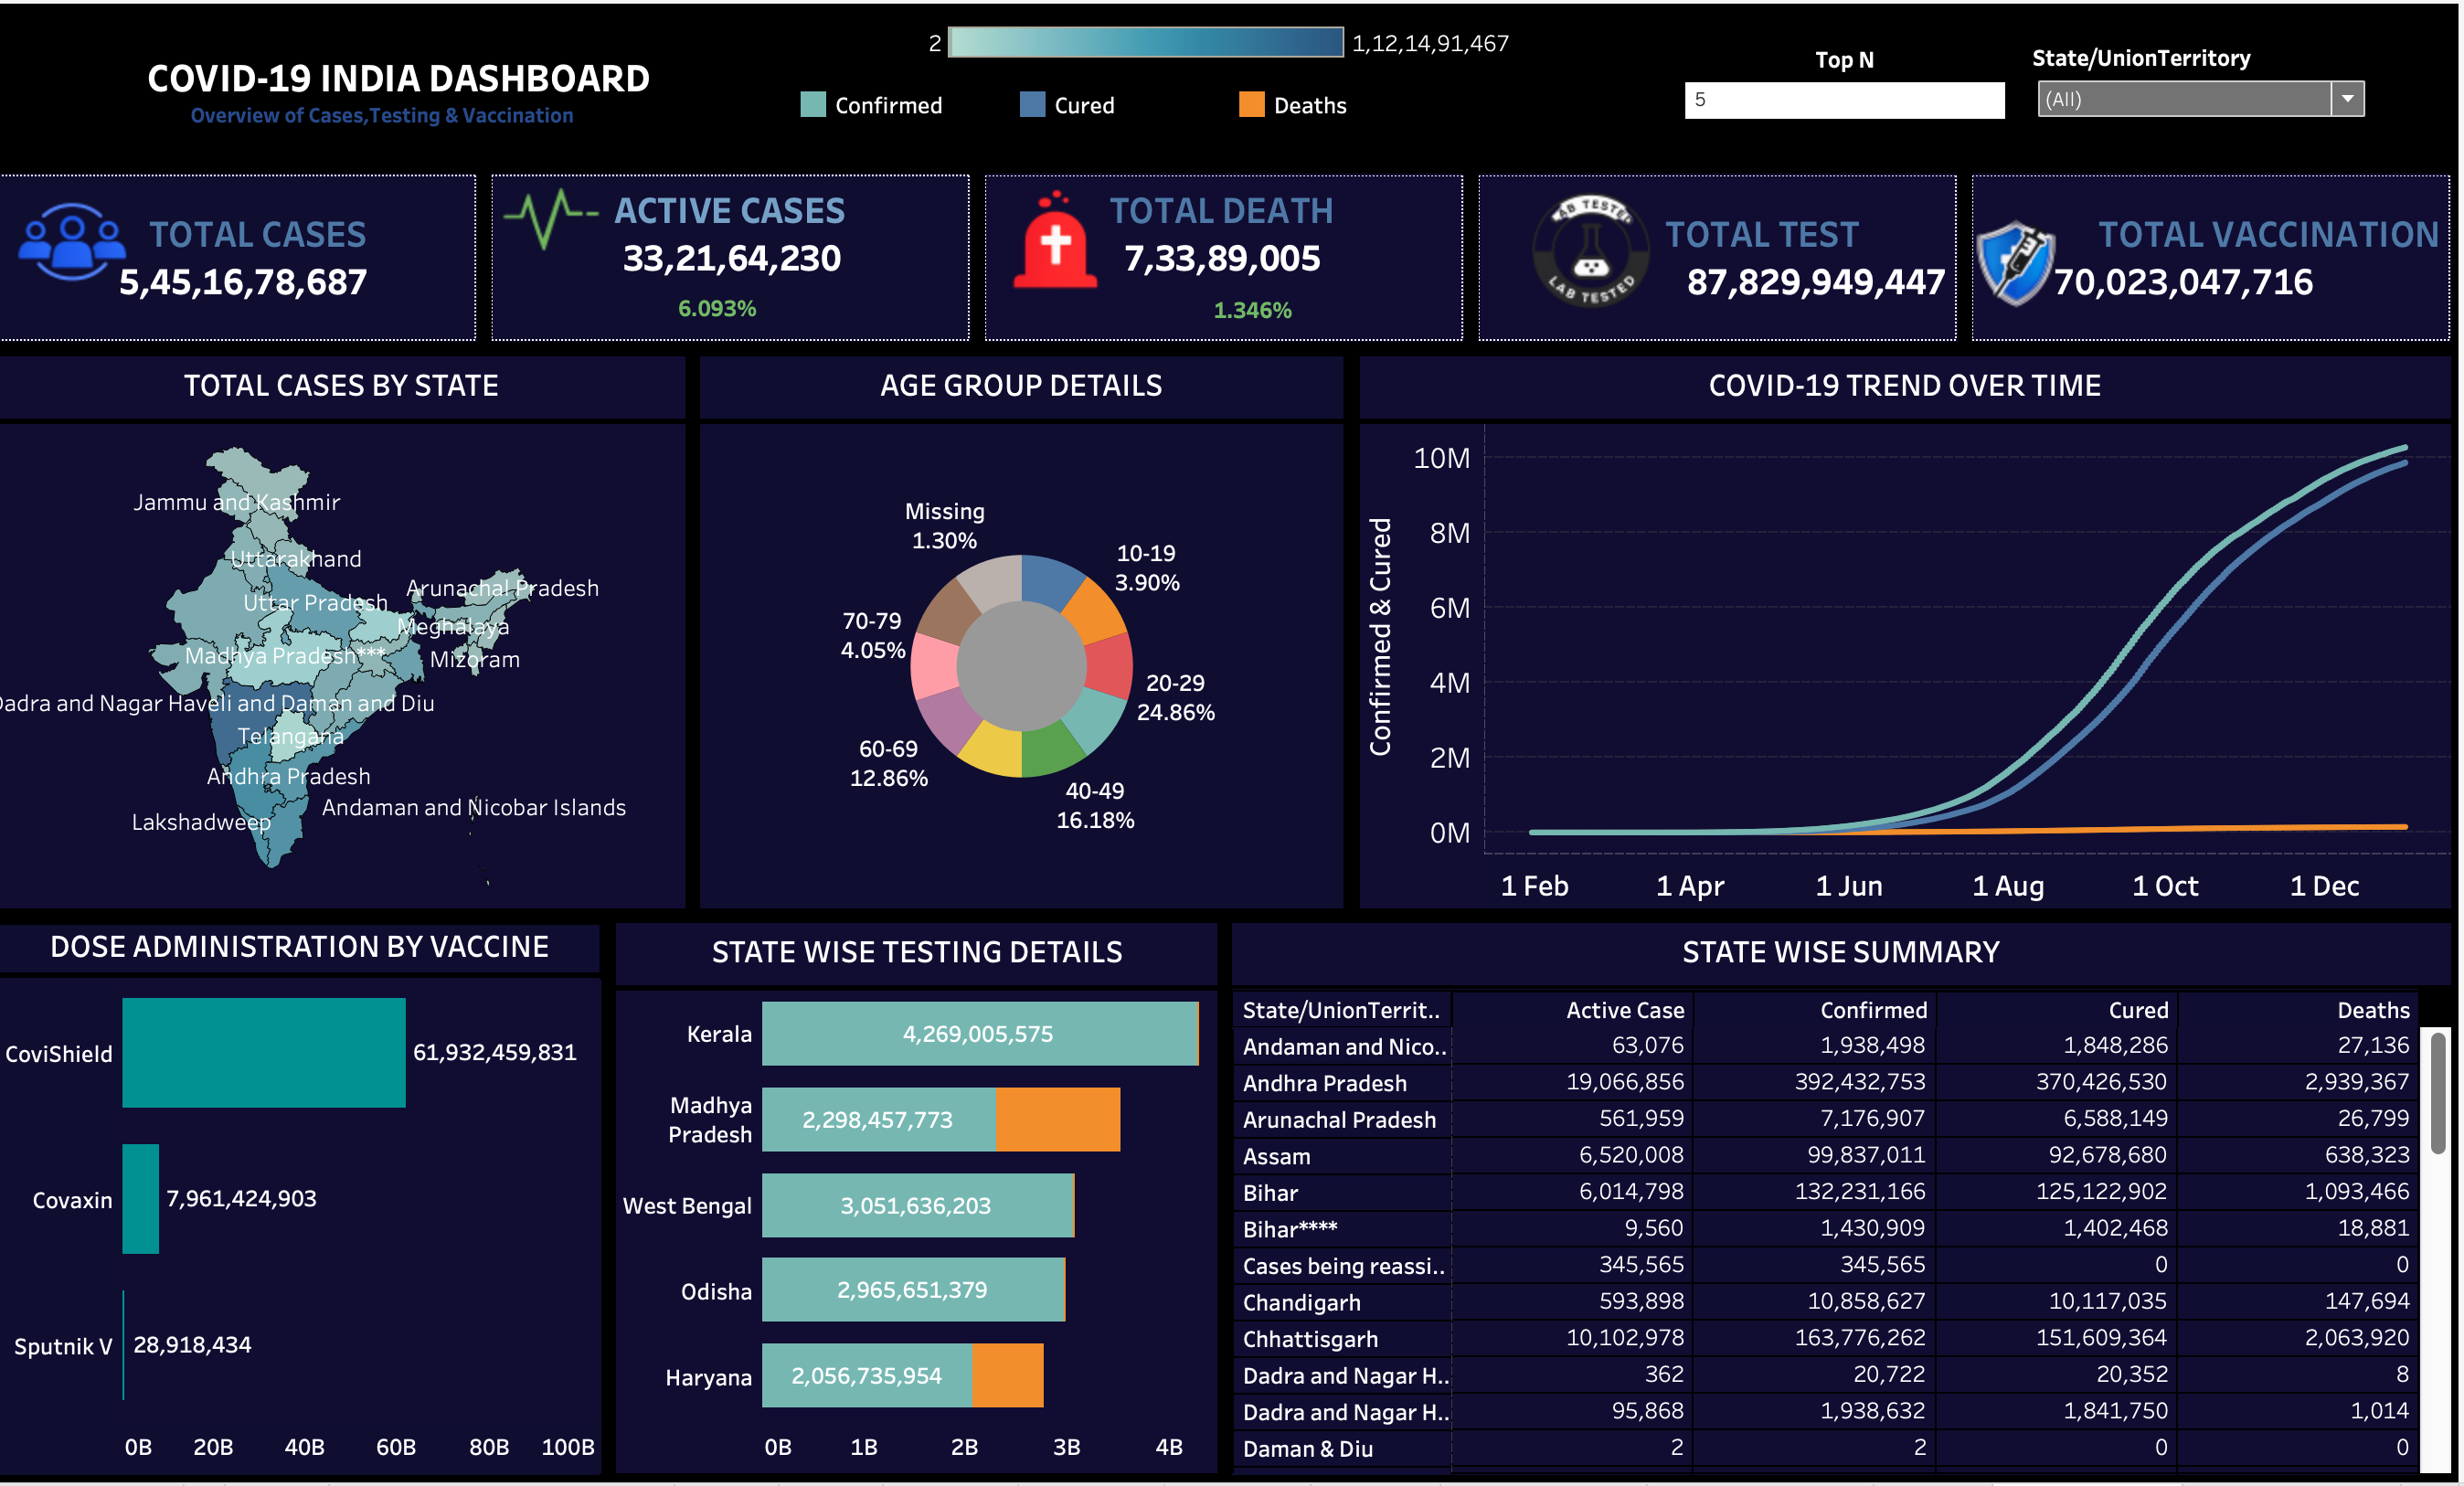

Layout of this report page (visuals, bound fields, positions):
{"tool":"tableau","page":{"name":"Dashboard 1","canvas":[1000,1000],"units":"permille","ordinal":0},"visuals":[{"type":"blank","box":[0,0,1000,92.3]},{"type":"legend","title":"Total Case By state","param":"[federated.1sr9uea13kxbv41amt2320eagpyy].[usr:Calculation_473863189550936064:qk]","box":[323.8,11.1,295.4,30.9]},{"type":"text","box":[7.3,12.4,961.8,91.6]},{"type":"filter","title":"Sheet 4","param":"[federated.1sr9uea13kxbv41amt2320eagpyy].[none:State/UnionTerritory:nk]","box":[827.5,26,136.7,64.4]},{"type":"parameter","param":"[Parameters].[State Parameter]","box":[684.3,27.2,134.3,58.2]},{"type":"legend","title":"Sheet 4","param":"[federated.1sr9uea13kxbv41amt2320eagpyy].[:Measure Names]","box":[326.3,33.4,353.9,49.5]},{"type":"image","param":"/Users/harshitkumarupadhyay/Desktop/covid/a6b0279b-7c7d-41cb-95da-ab1b4879ec82.p","box":[165.2,44.6,121.2,215.3]},{"type":"image","param":"/Users/harshitkumarupadhyay/Desktop/covid/75a09f88-a840-40ce-9748-5b8d4bb2c08e.p","box":[563.5,59.3,169.6,216.3]},{"type":"image","param":"/Users/harshitkumarupadhyay/Desktop/covid/e1d3f950-d65c-4a72-a9fc-7463ab3b9085.p","box":[358,89.1,140,158.4]},{"type":"worksheet","title":"Total Case","mark":"Automatic","box":[0,92.7,200,140.9]},{"type":"worksheet","title":"Active Case","mark":"Automatic","box":[200,92.7,200,140.9]},{"type":"worksheet","title":"Total Death","mark":"Automatic","box":[400,92.7,200,140.9]},{"type":"worksheet","title":"Total Test","mark":"Automatic","box":[600,92.7,200,140.9]},{"type":"worksheet","title":"Total Vaccination","mark":"Automatic","box":[800,92.7,200,140.9]},{"type":"image","param":"/Users/harshitkumarupadhyay/Desktop/9b1c0f5c-f37d-4b05-a487-eca4b286e3ee.png","box":[135.7,93.8,220.9,172.6]},{"type":"image","param":"/Users/harshitkumarupadhyay/Desktop/covid/b30b4676-49e2-4135-bdca-817aaab24384-1","box":[761.6,100.2,118.8,154.7]},{"type":"worksheet","title":"Total Case By state","mark":"Automatic","box":[0,233.9,284.8,383.1]},{"type":"worksheet","title":"Sheet 6","mark":"Pie","rows":["Calculation_441845410416717855","Calculation_441845410416799777"],"box":[284.8,233.9,266.9,383.1]},{"type":"worksheet","title":"Sheet 4","mark":"Automatic","cols":["Date"],"box":[551.7,233.9,448.3,383.1]},{"type":"worksheet","title":"Dose administrated by vaccine","mark":"Automatic","box":[0,617,250,383]},{"type":"worksheet","title":"TESTING DETAILS","mark":"Automatic","rows":["State"],"box":[250,617,250,383]},{"type":"worksheet","title":"Sheet 15","mark":"Automatic","rows":["State/UnionTerritory"],"box":[500,617,500,383]}]}

Visuals, with their boxes on the dashboard's canvas, which has no fixed pixel size, in thousandths of its width and height (x1, y1, x2, y2). These are canvas units, not pixel positions in the 2464x1486 screenshot, which may show the page scaled, cropped or inside an application window:
blank: 0/0/1000/92
"Total Case By state" legend: 324/11/619/42
text: 7/12/969/104
"Sheet 4" filter: 828/26/964/90
parameter: 684/27/819/85
"Sheet 4" legend: 326/33/680/83
image: 165/45/286/260
image: 564/59/733/276
image: 358/89/498/248
"Total Case" worksheet: 0/93/200/234
"Active Case" worksheet: 200/93/400/234
"Total Death" worksheet: 400/93/600/234
"Total Test" worksheet: 600/93/800/234
"Total Vaccination" worksheet: 800/93/1000/234
image: 136/94/357/266
image: 762/100/880/255
"Total Case By state" worksheet: 0/234/285/617
"Sheet 6" worksheet (Pie marks): 285/234/552/617
"Sheet 4" worksheet: 552/234/1000/617
"Dose administrated by vaccine" worksheet: 0/617/250/1000
"TESTING DETAILS" worksheet: 250/617/500/1000
"Sheet 15" worksheet: 500/617/1000/1000
